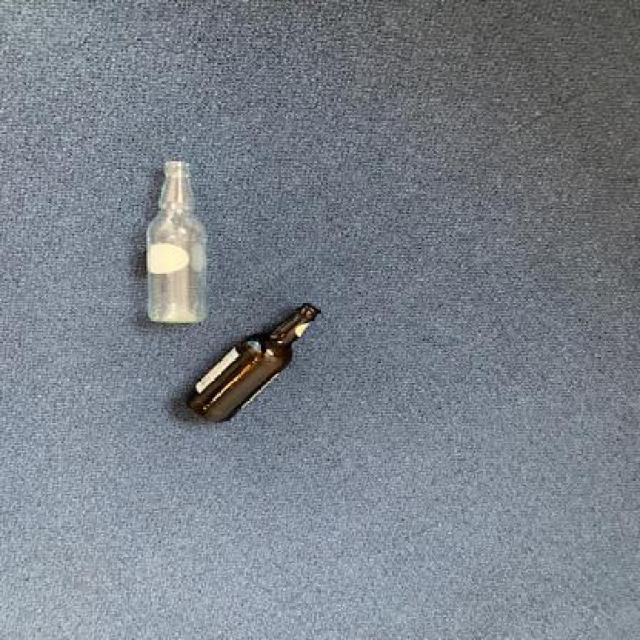trash: (181, 302, 333, 423), (146, 157, 206, 332)
